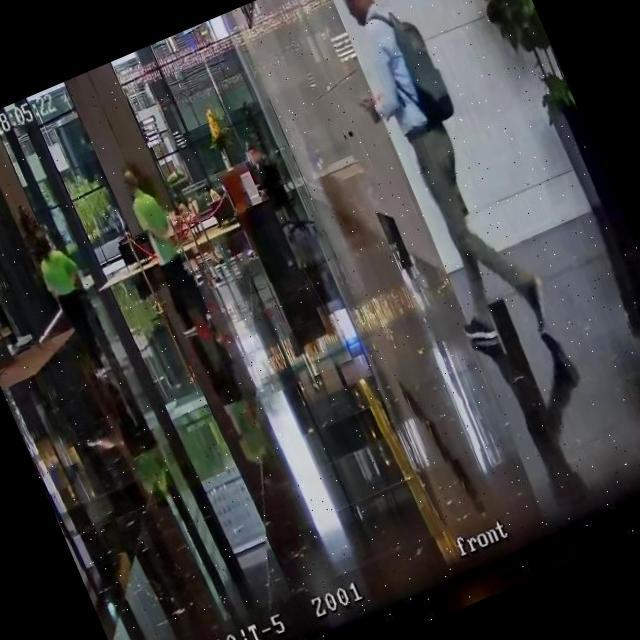person: (307, 0, 564, 375), (116, 158, 218, 341), (24, 220, 121, 382), (244, 140, 286, 208), (200, 180, 232, 228)
